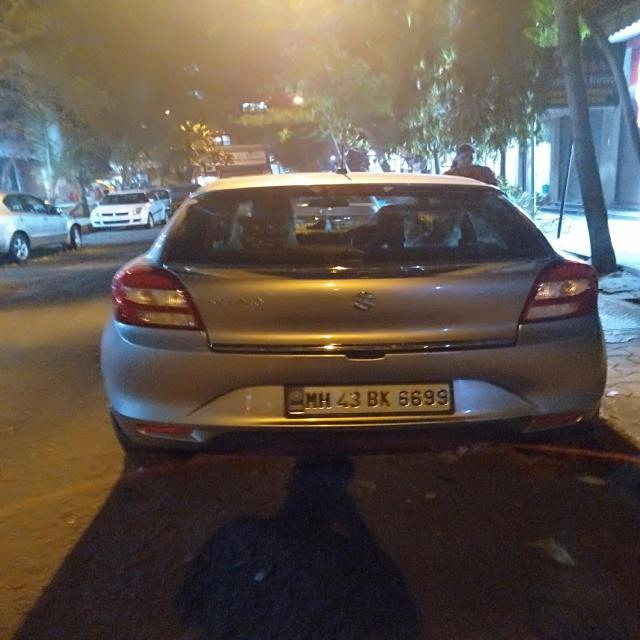Number-Plate: (291, 384, 452, 414)
